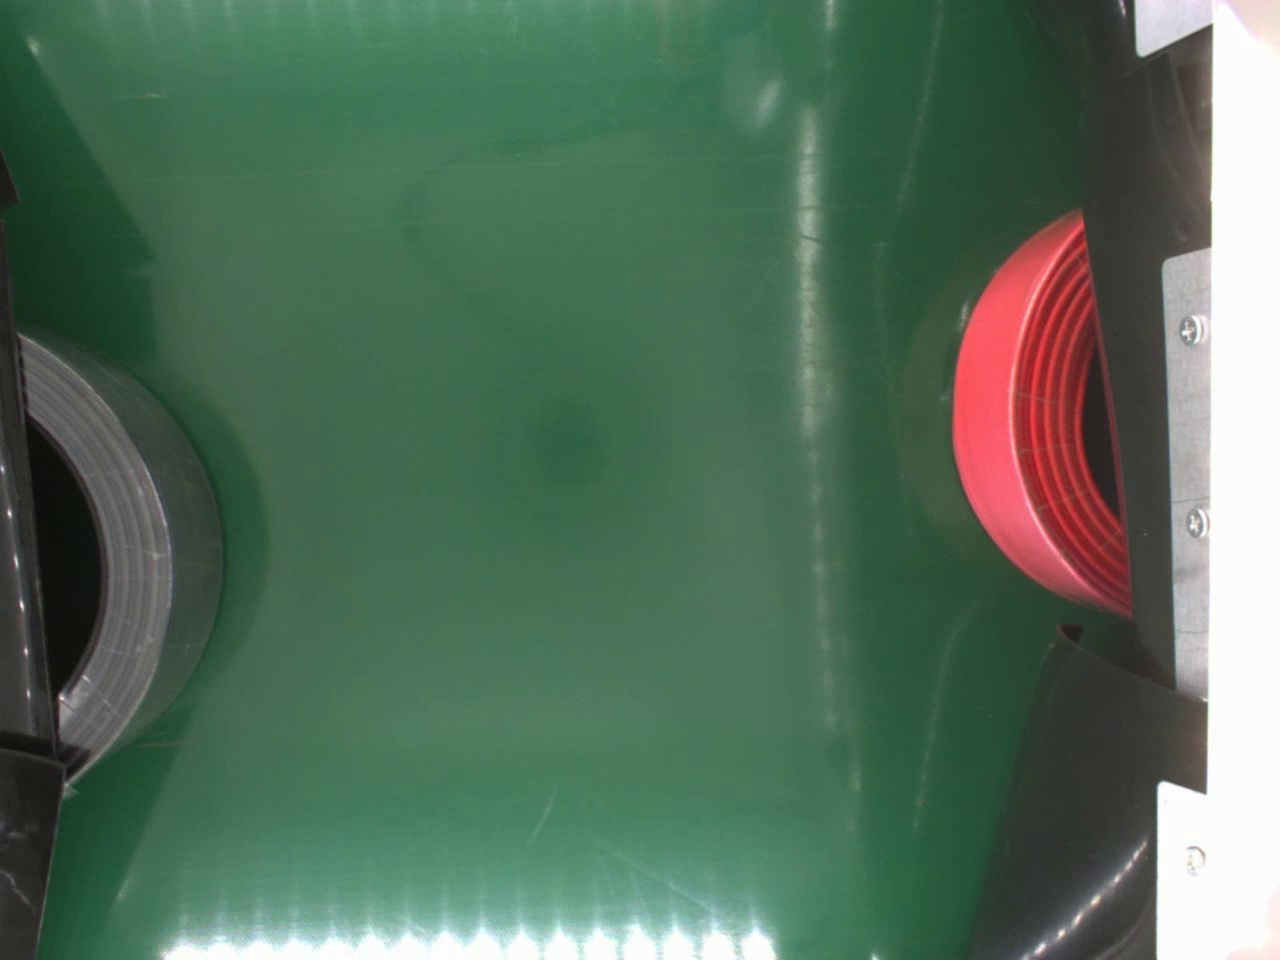black: (19, 324, 226, 776)
red: (955, 204, 1144, 621)
